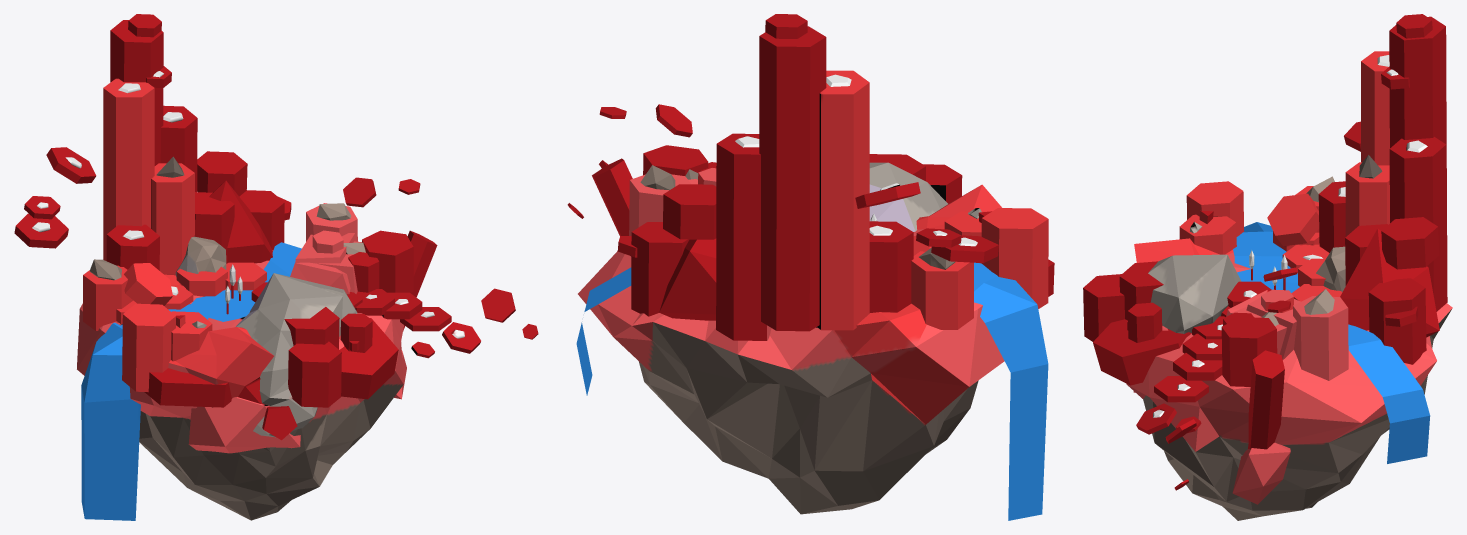
Rendered from Isle B.glb.
3 views of the same model, side by side, from view 1: azimuth 30°, elevation 25°; view 2: azimuth 150°, elevation 25°; view 3: azimuth 270°, elevation 25° (orthographic). The views are drawn at different scales.
Visible parts, largest first — view 1: Icosphere.001; view 2: Icosphere.001; view 3: Icosphere.001.
Part boxes in pixels (x1,y1,x2,y2): Icosphere.001: [14, 14, 538, 520]; Icosphere.001: [567, 14, 1054, 520]; Icosphere.001: [1083, 14, 1452, 520].
Bounding box in the file's own units: 123 × 123 × 86.56.
1 material, 1 textured.
